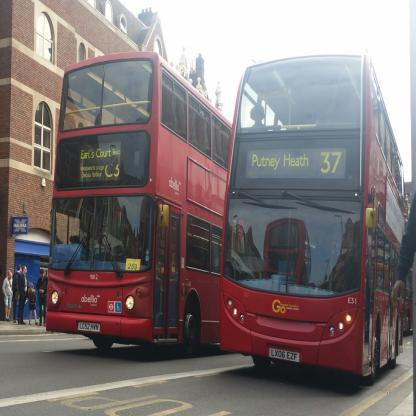bus: (217, 45, 408, 379), (45, 49, 236, 357)
